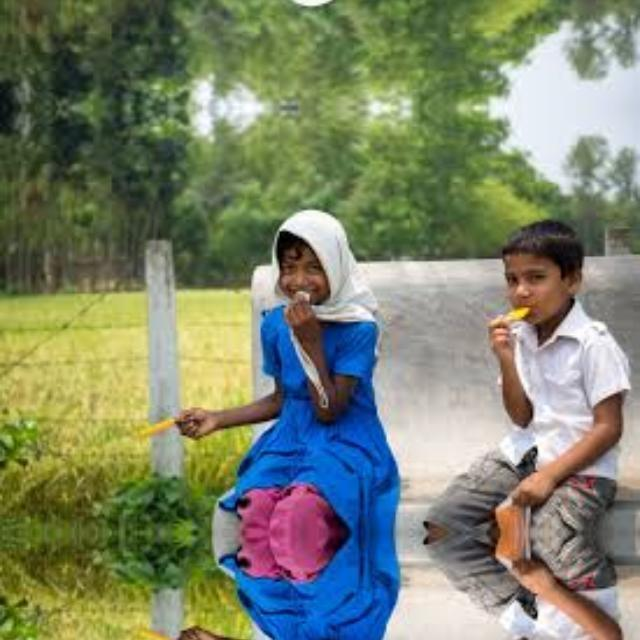person: (435, 203, 640, 532), (228, 201, 402, 534), (435, 532, 640, 640), (227, 532, 402, 640), (227, 0, 402, 13), (435, 0, 640, 10)
